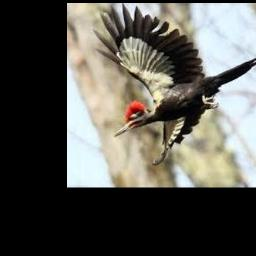Woodpecker: (93, 3, 256, 164)
